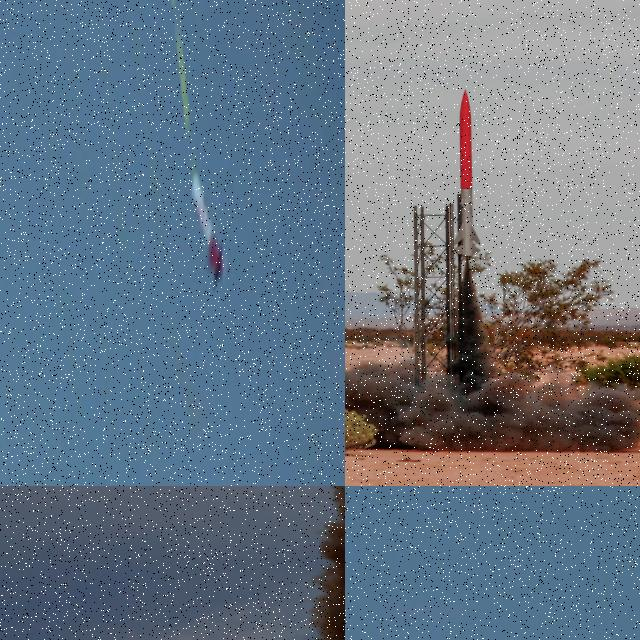Rocket: (452, 89, 482, 258), (190, 169, 230, 286)
